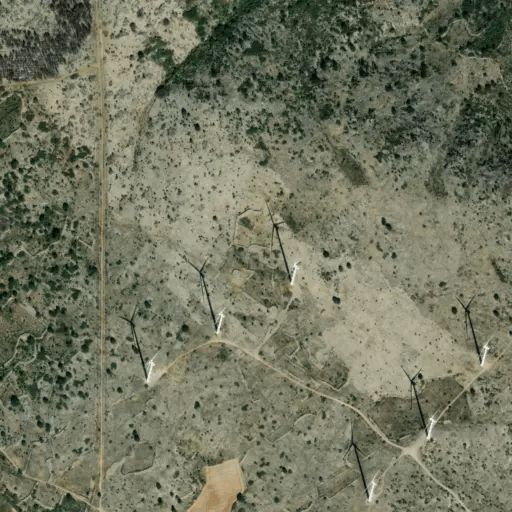wt: (114, 300, 164, 394), (182, 247, 229, 344), (260, 203, 308, 295), (398, 365, 441, 447), (455, 292, 494, 374), (345, 427, 381, 505)
